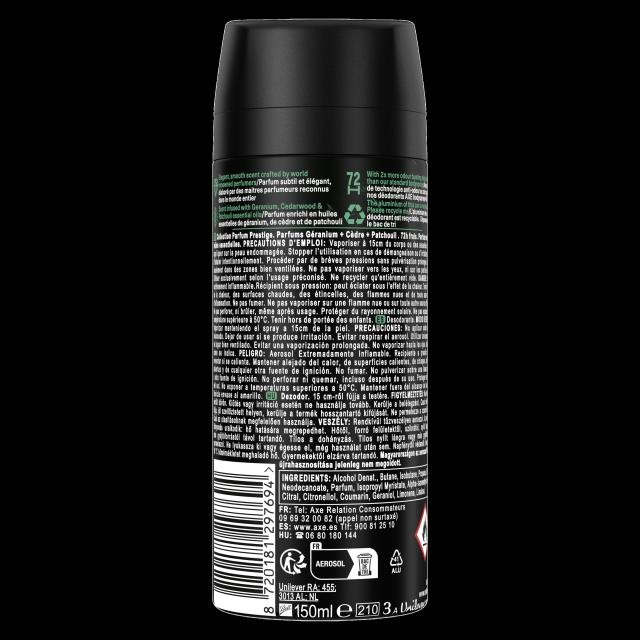GHS_Symbol_FLAME: (414, 504, 428, 560)
